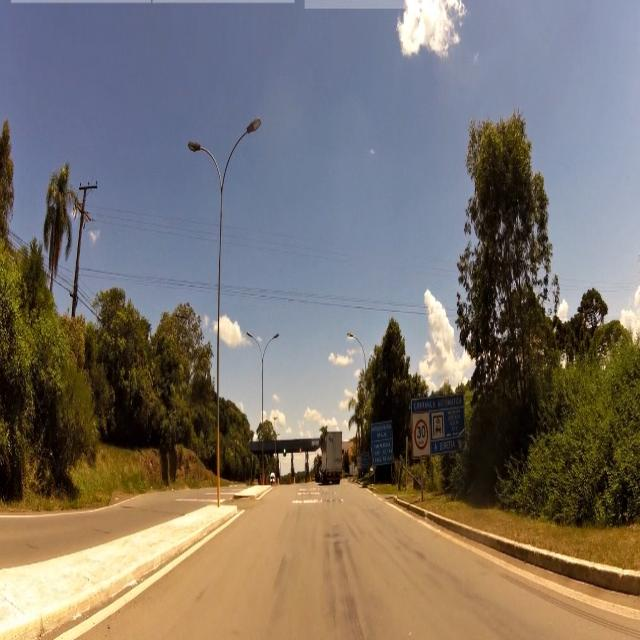R-19: (413, 415, 429, 453)
